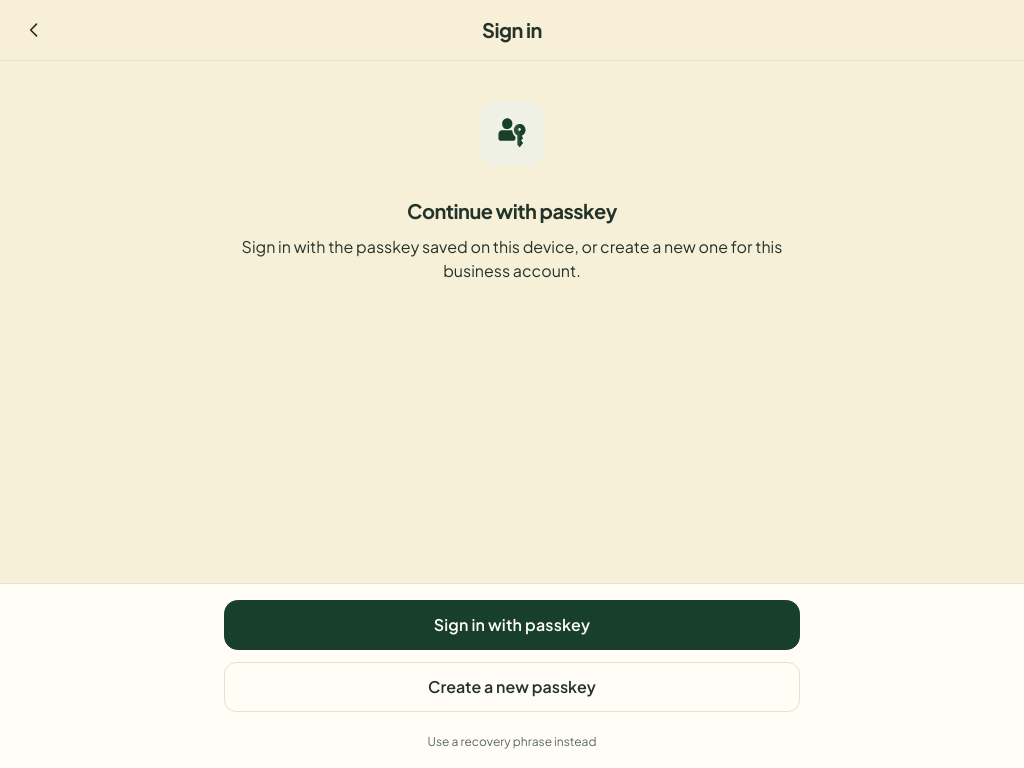
it: PasskeyPage › does not prompt on mount and treats a cancelled prompt as cancellation, not a new account
Expected: the heading "Continue with passkey" is shown, [407,198,617,223]
Step 1. Click the button with test id "passkey-signin-button" → (512, 625), box [224,600,800,650]
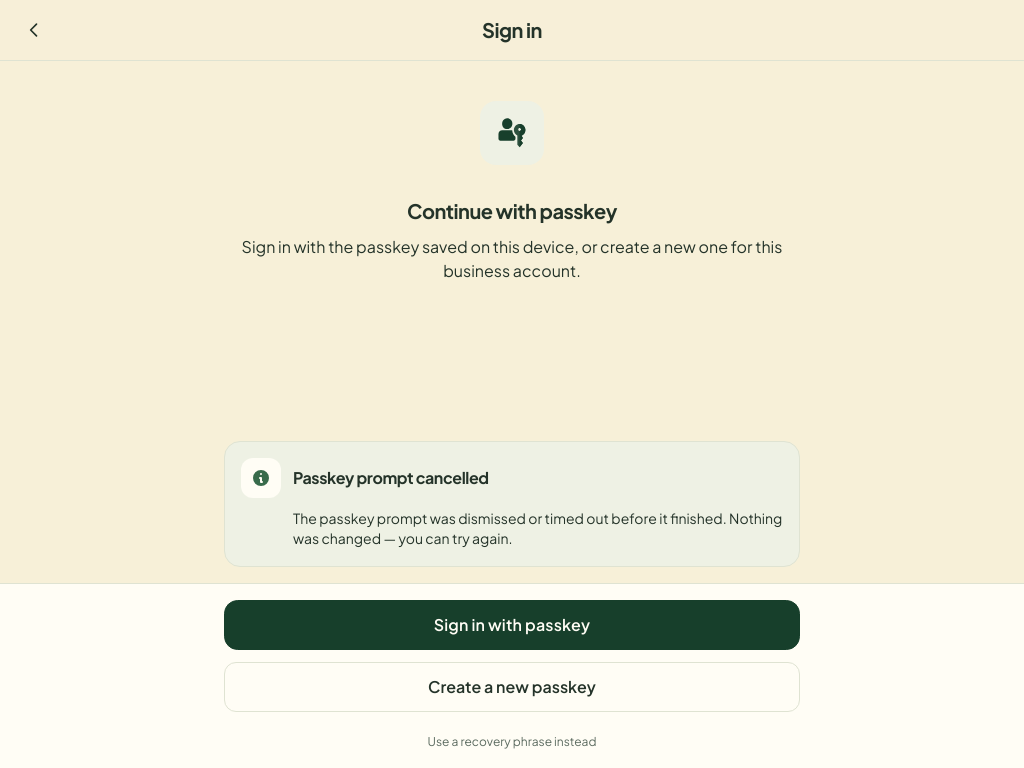
Now the heading "Passkey prompt cancelled" is shown, box [293,466,489,490]
